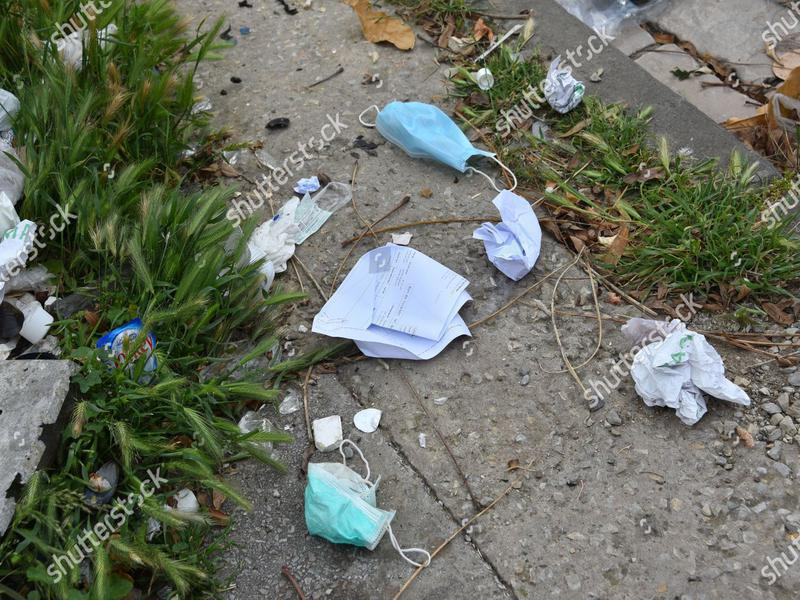leaf: (336, 1, 427, 51)
mask: (285, 438, 438, 573), (344, 99, 522, 191)
paper: (307, 238, 472, 367), (617, 314, 755, 425), (471, 190, 562, 283), (535, 54, 594, 114)
